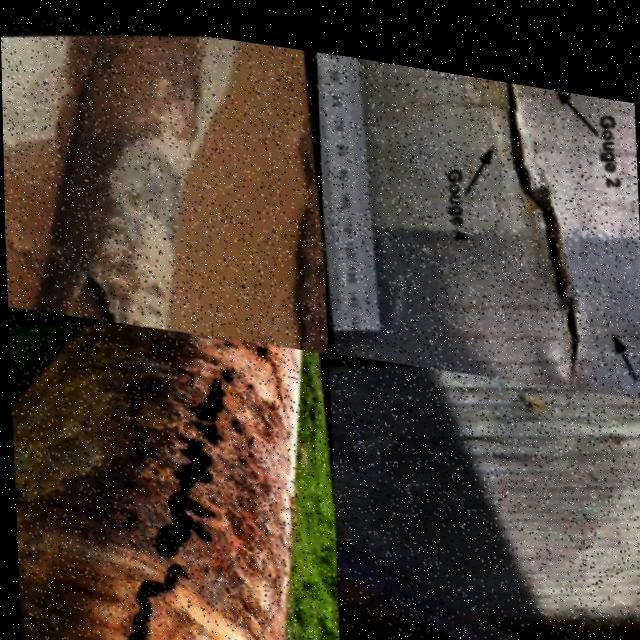crack: (501, 66, 592, 369), (360, 585, 503, 640)
hole: (107, 543, 196, 640), (137, 469, 227, 563), (154, 416, 216, 489), (185, 370, 233, 419), (167, 347, 200, 385), (191, 405, 223, 440), (212, 348, 243, 379), (222, 398, 251, 431), (115, 497, 140, 524), (248, 334, 276, 356), (117, 461, 140, 485), (233, 438, 250, 460), (219, 331, 237, 344), (240, 369, 255, 384), (208, 346, 220, 358), (244, 438, 257, 449), (243, 426, 257, 436)
rupture: (31, 235, 124, 322)
